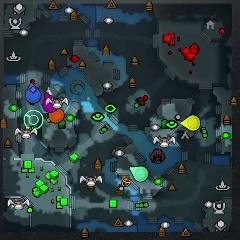p1: (25, 82, 42, 104)
p2: (130, 165, 149, 183)
p3: (43, 92, 56, 114)
p4: (180, 115, 201, 131)
p5: (49, 107, 65, 124)
